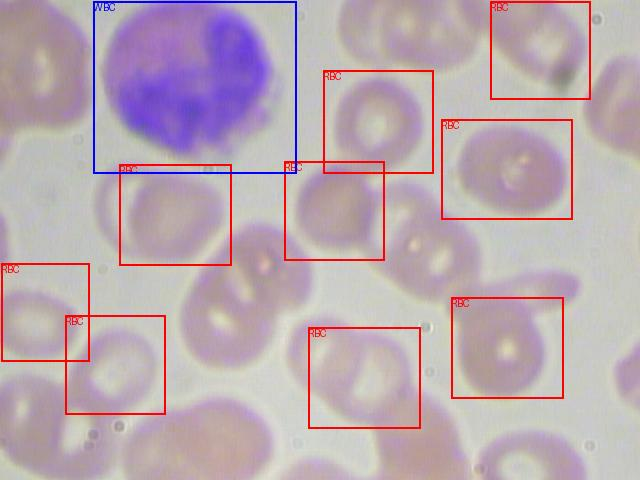RBC: (441, 119, 572, 219), (323, 70, 433, 173), (119, 164, 231, 265), (451, 297, 563, 398), (308, 327, 420, 428), (65, 315, 165, 414), (284, 161, 384, 260), (490, 1, 590, 99), (1, 263, 89, 361)
WBC: (93, 1, 296, 173)
